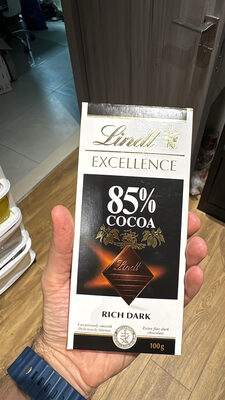Excellence 85% Cacao Rich Dark: (11, 20, 214, 380)
